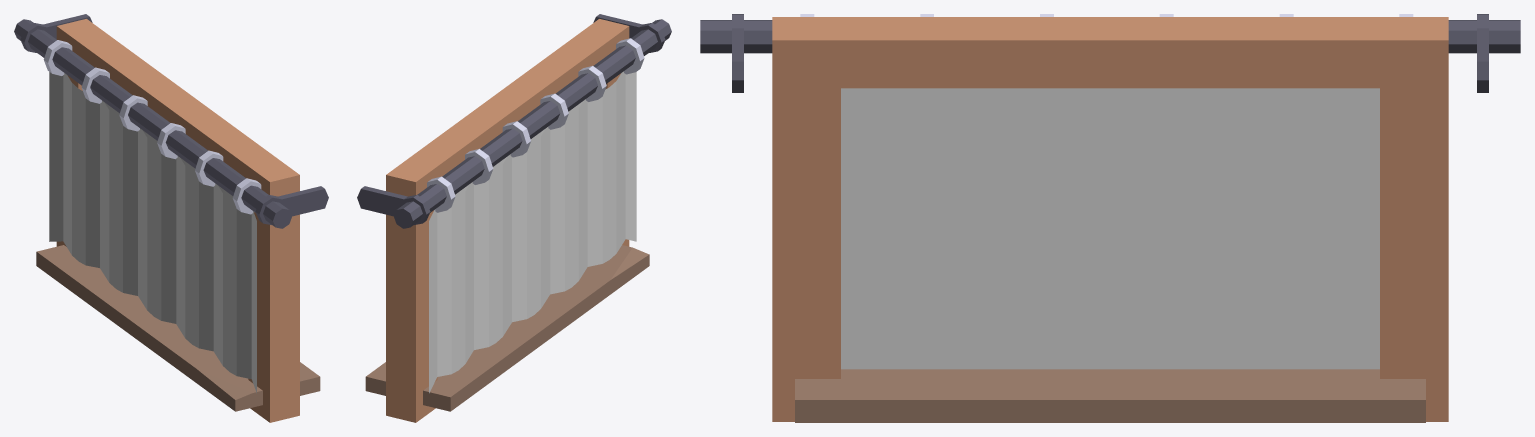
File: Window.fbx
3 renders of one model, left to right at view 1: azimuth 30°, elevation 25°; view 2: azimuth 150°, elevation 25°; view 3: azimuth 270°, elevation 25°, orthographic. The views are drawn at different scales.
Parts seen in each view (by area): view 1: Cube.128; view 2: Cube.128; view 3: Cube.128.
Part boxes in pixels (x1,y1,x2,y2): Cube.128: (14, 14, 328, 422); Cube.128: (357, 14, 671, 422); Cube.128: (700, 14, 1520, 422).
Bounding box in the file's own units: 82.6 × 224 × 437.
